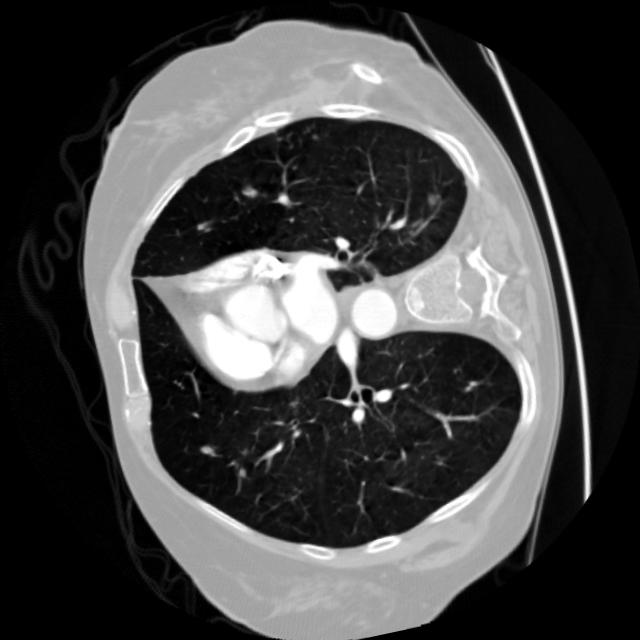nodule: (188, 430, 222, 463)
